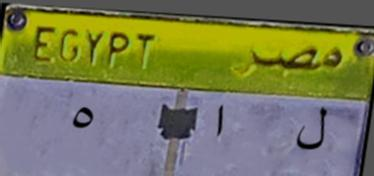5: (69, 100, 98, 138)
alif: (211, 98, 227, 142)
laam: (293, 103, 330, 160)
